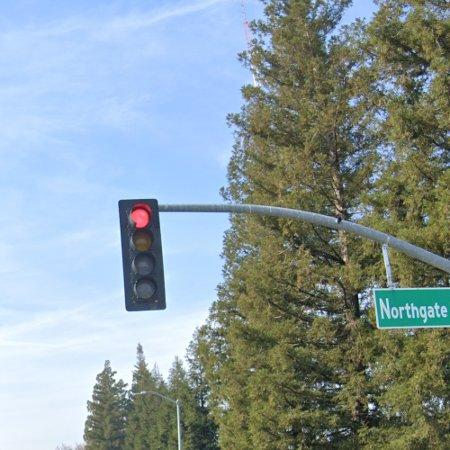traffic lights: (119, 200, 166, 312)
